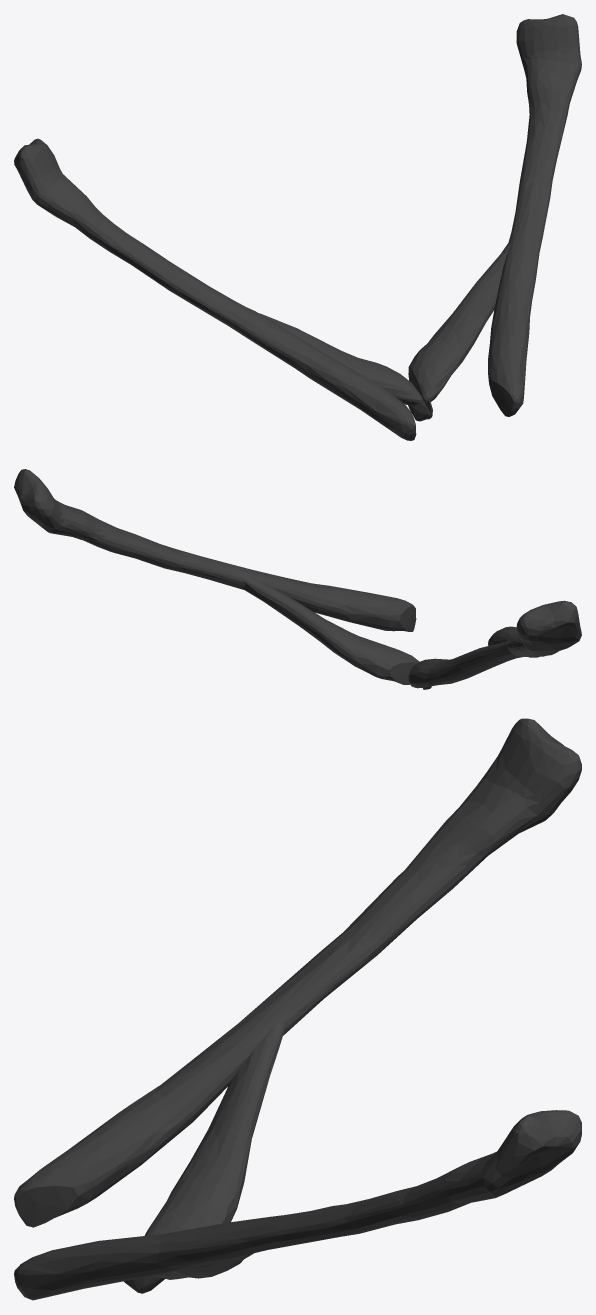
The model's file is lig_sacrotuberous.glb.
3 views of the same model, one above another, from view 1: azimuth 30°, elevation 25°; view 2: azimuth 150°, elevation 25°; view 3: azimuth 270°, elevation 25° (orthographic). The views are drawn at different scales.
Parts seen in each view (by area): view 1: lig_sacrotuberous; view 2: lig_sacrotuberous; view 3: lig_sacrotuberous.
Part boxes in pixels (x1=…): lig_sacrotuberous: x1=14, y1=14, x2=581, y2=440; lig_sacrotuberous: x1=14, y1=469, x2=581, y2=689; lig_sacrotuberous: x1=14, y1=718, x2=581, y2=1300.
Bounding box in the file's own units: 0.00407 × 0.00171 × 0.00237.
Materials: 1 (1 with a texture image).
